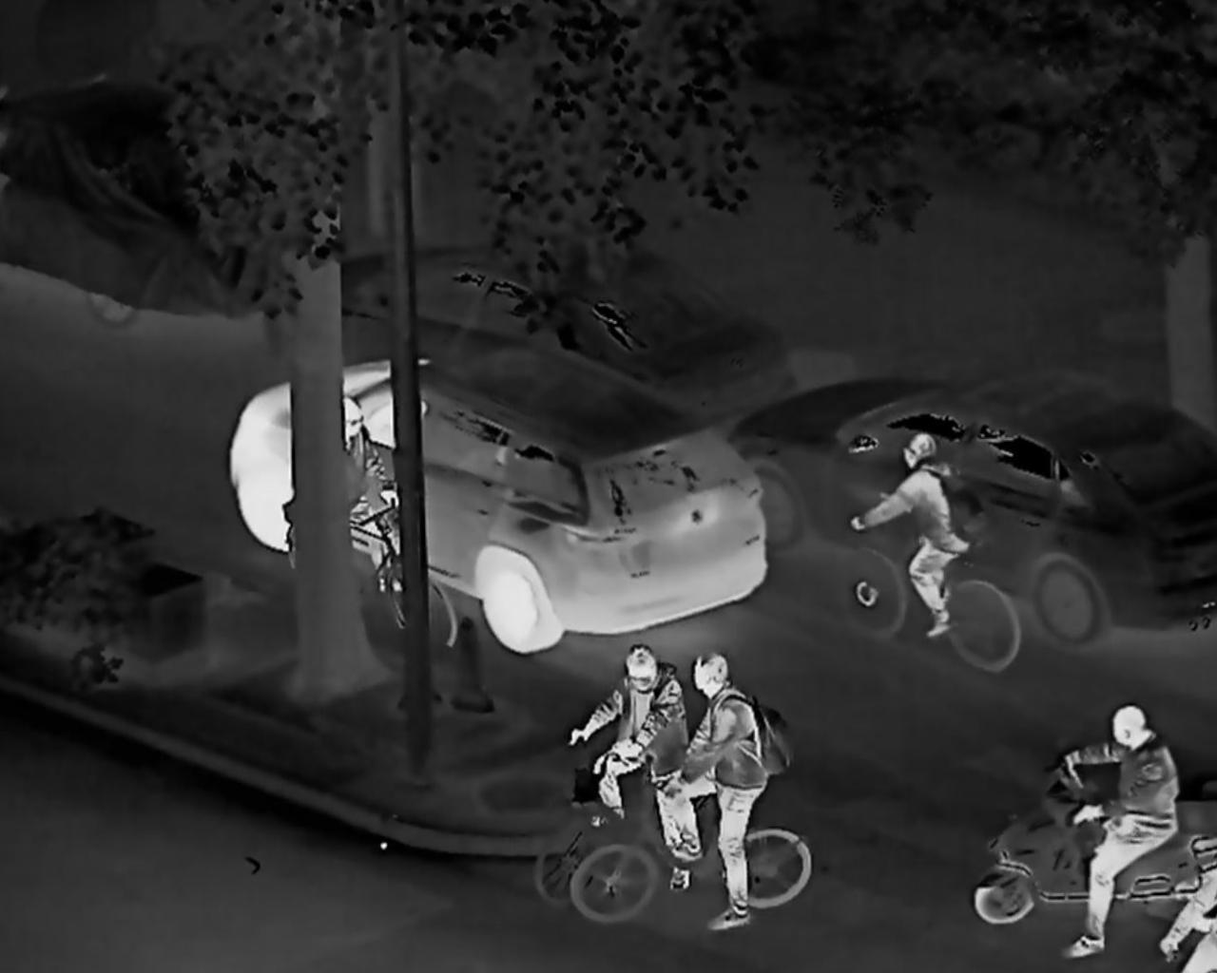person: (658, 643, 790, 937), (1053, 693, 1191, 973), (574, 646, 708, 901), (850, 429, 972, 649), (309, 387, 411, 579)
